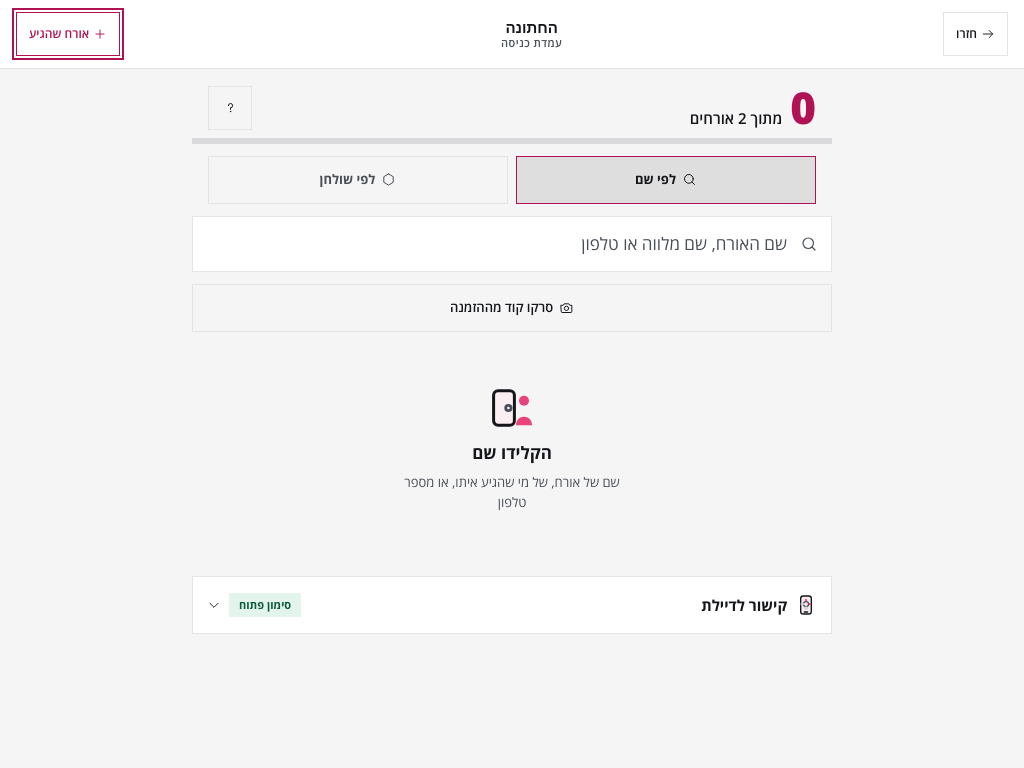
Test: walk-in sheet keyboard › Escape closes it and focus returns to the button that opened it
Click the button "אורח שהגיע" at (68, 34), box [16, 12, 120, 56]
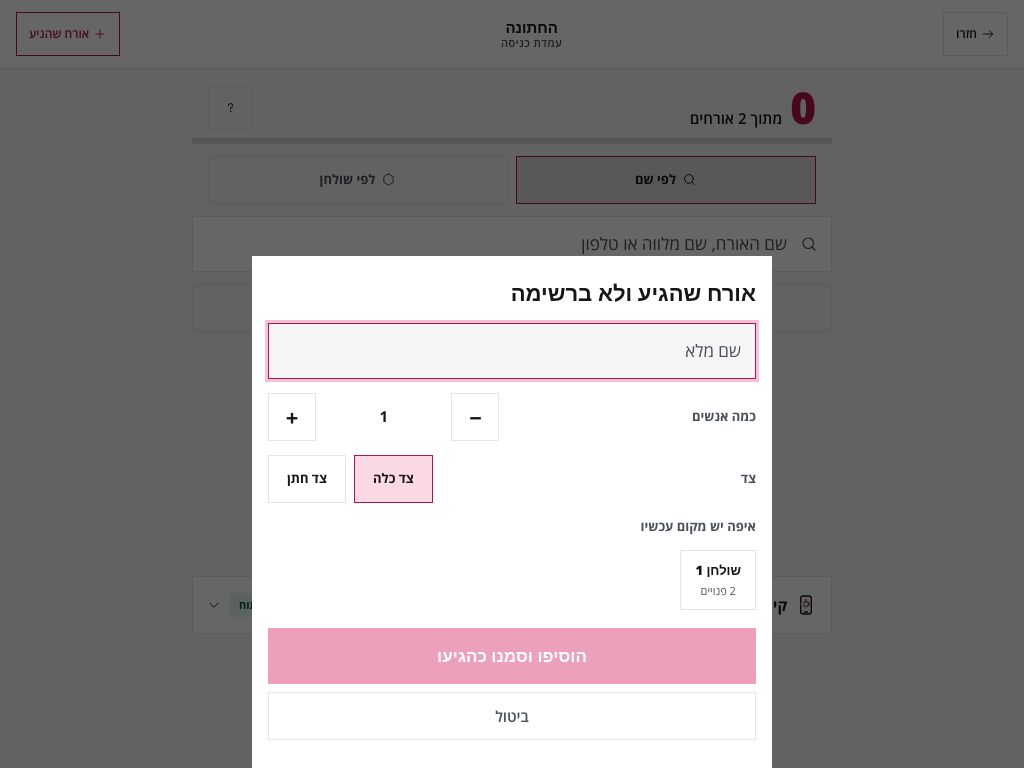
Result: the dialog is shown at [252, 256, 772, 767]
Press Escape
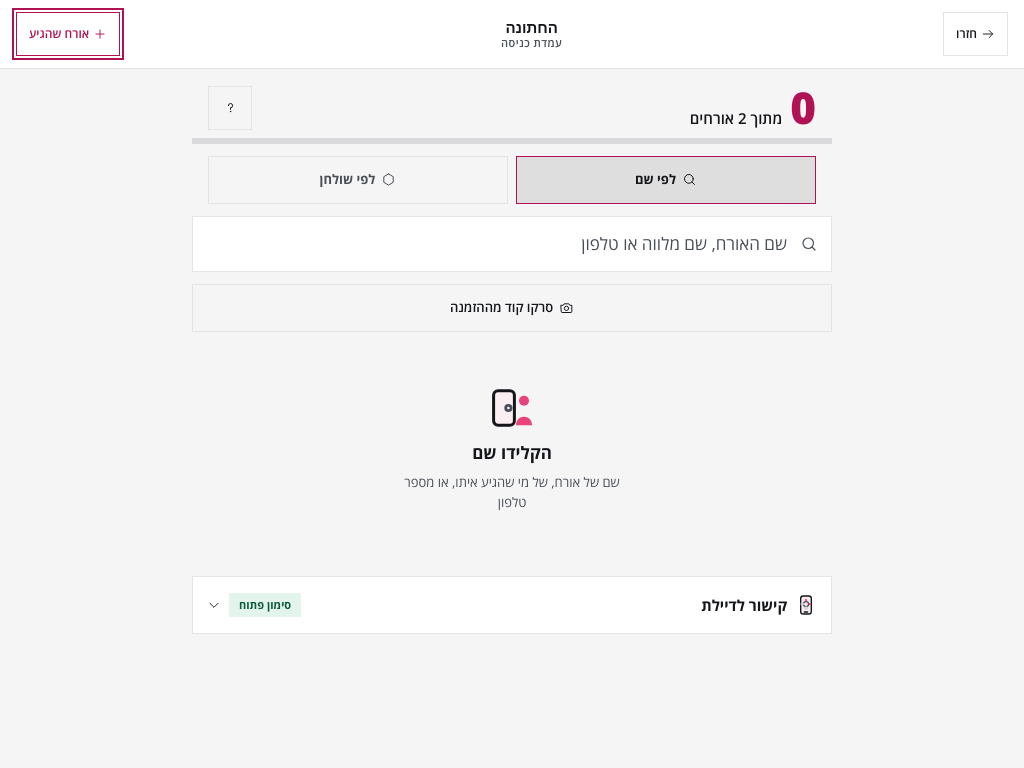
Result: the dialog is gone
